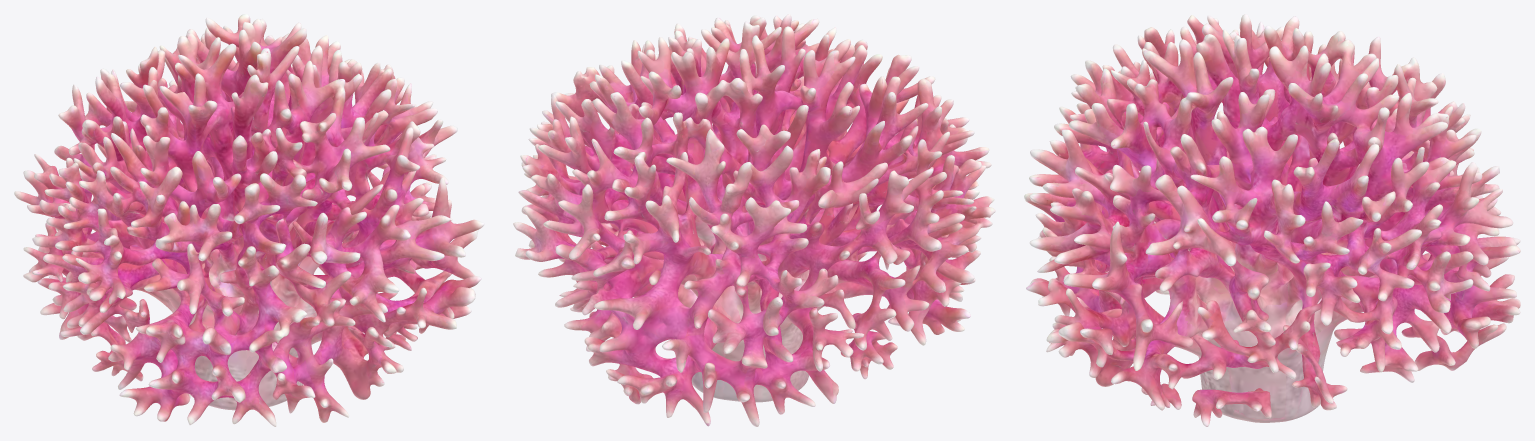
File: pocillopora.glb
3 views of the same model, side by side, from view 1: azimuth 30°, elevation 25°; view 2: azimuth 150°, elevation 25°; view 3: azimuth 270°, elevation 25° (orthographic). The views are drawn at different scales.
Size of the model in its own units: 1.89 by 1.55 by 1.89.
Materials: 1 (1 with a texture image).
